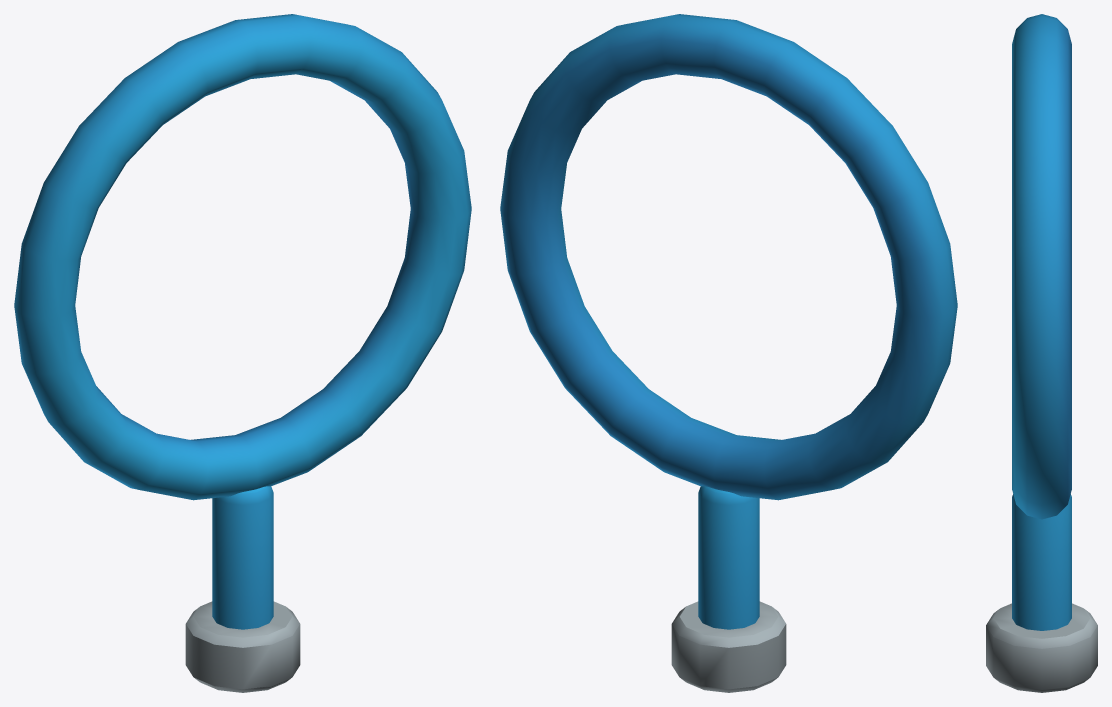
The model's file is hoop-blue.glb.
The picture shows the model from 3 angles, left to right: view 1: azimuth 30°, elevation 25°; view 2: azimuth 150°, elevation 25°; view 3: azimuth 270°, elevation 25°; orthographic projection. The views are drawn at different scales.
Visible parts, largest first — view 1: hoop_blue; view 2: hoop_blue; view 3: hoop_blue.
Part boxes in pixels (x1,y1,x2,y2): hoop_blue: (14,14,471,692); hoop_blue: (500,14,957,692); hoop_blue: (986,14,1097,692).
Bounding box in the file's own units: 3.4 × 4.7 × 0.75.
Materials: 1 (1 with a texture image).
